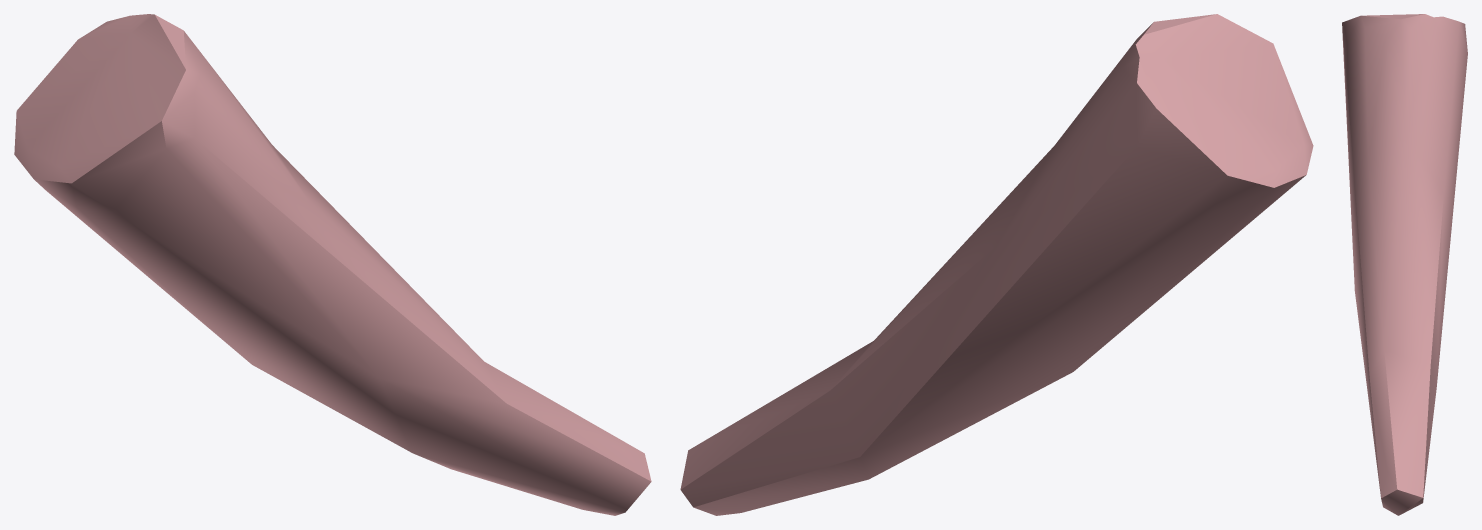
Rendered from fma68228_fj6527.glb.
The picture shows the model from 3 angles, left to right: view 1: azimuth 30°, elevation 25°; view 2: azimuth 150°, elevation 25°; view 3: azimuth 270°, elevation 25°; orthographic projection. The views are drawn at different scales.
Parts seen in each view (by area): view 1: FMA68228_FJ6527; view 2: FMA68228_FJ6527; view 3: FMA68228_FJ6527.
Part boxes in pixels (x1,y1,x2,y2): FMA68228_FJ6527: (14,14,651,515); FMA68228_FJ6527: (680,14,1313,515); FMA68228_FJ6527: (1342,14,1467,515).
Size of the model in its own units: 0.0147 by 0.0137 by 0.00424.
